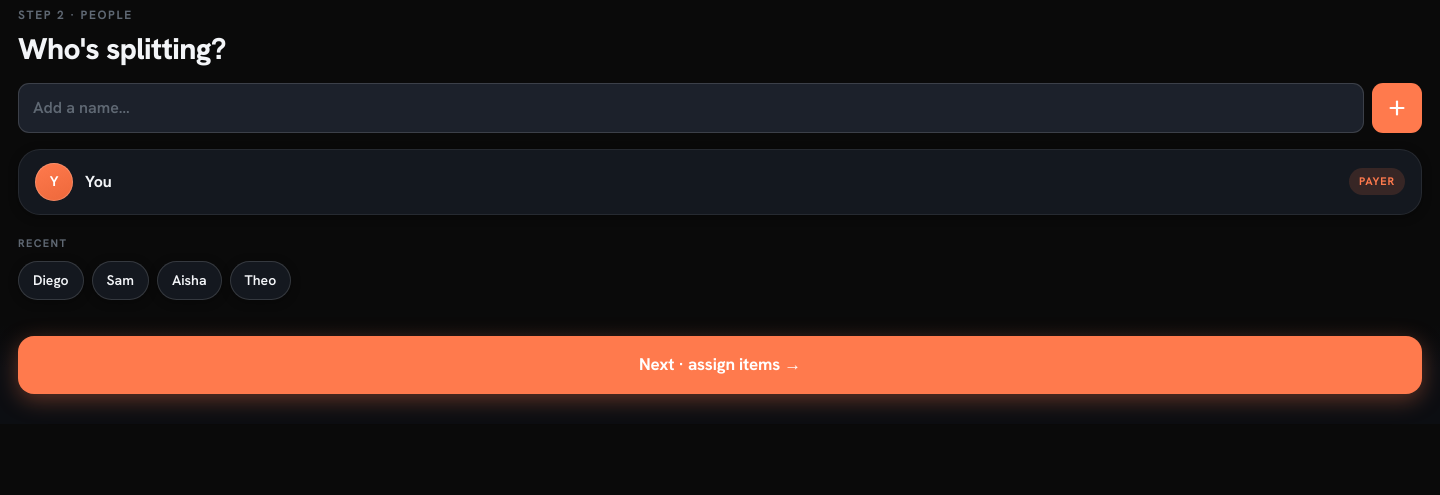
Test case: <PeopleScreen /> › non-payer person has a remove button
Type "Hank" into the field labelled "Add a name…" at (691,108), box x1=18 y1=82 x2=1364 y2=132
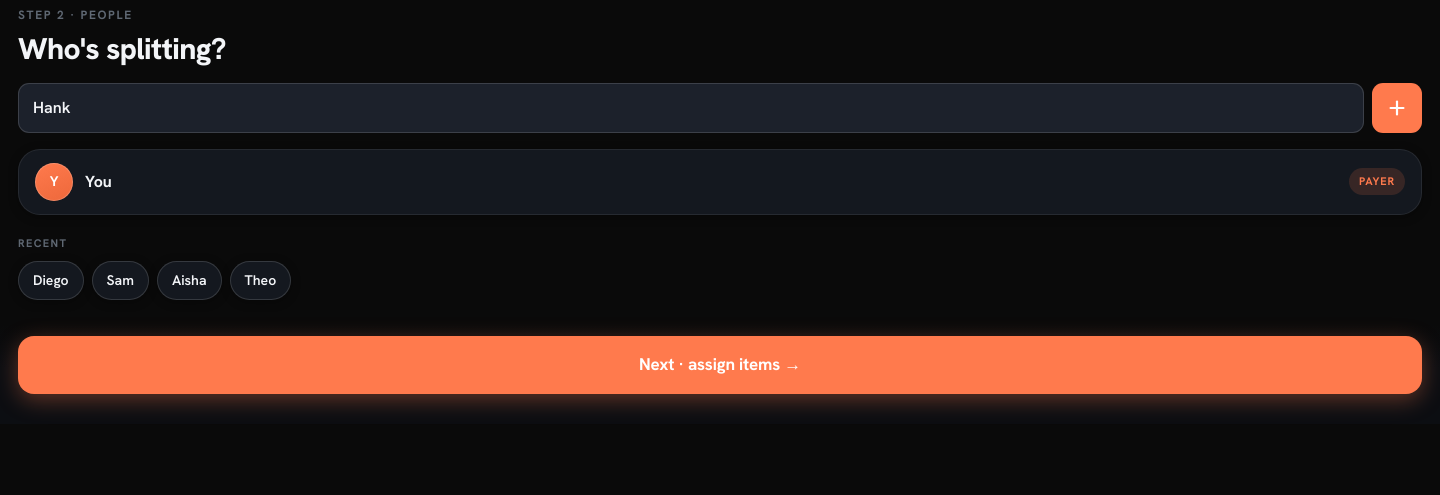
Click the button named "add person" at (1397,108), box x1=1372 y1=82 x2=1422 y2=132
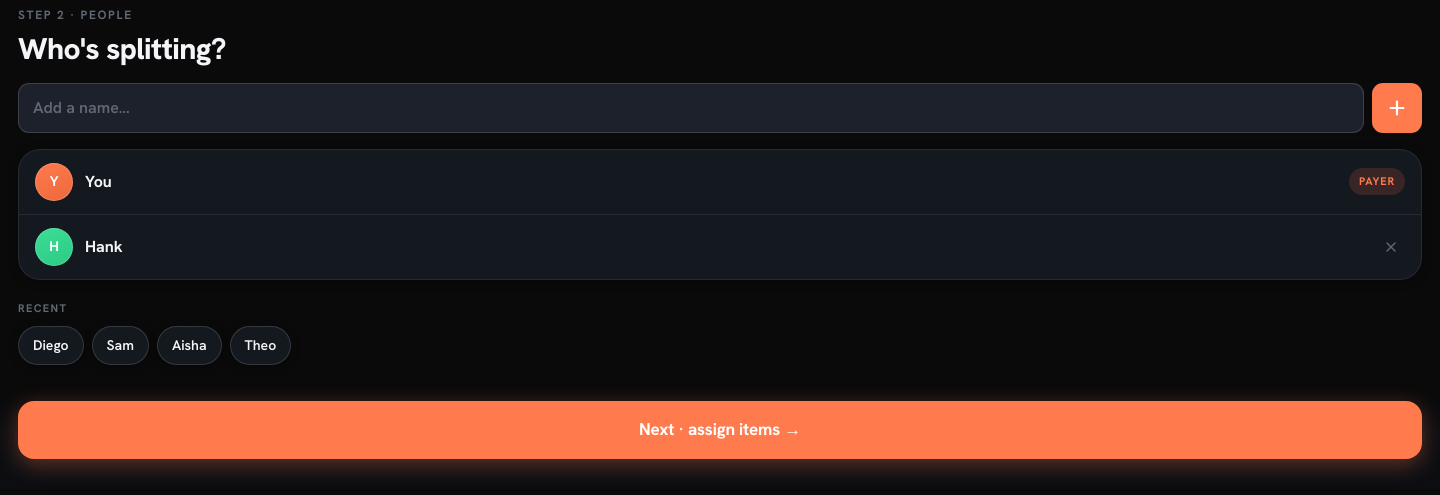
Expected: the button named "remove hank" is shown, x1=1377 y1=232 x2=1405 y2=260
